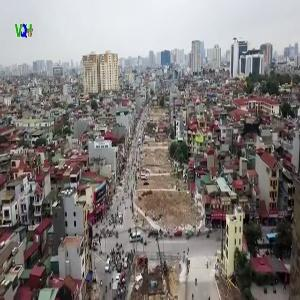drone: (234, 113, 273, 152)
